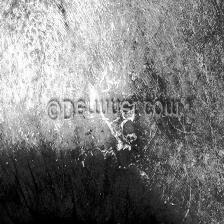Potentially Malignant Skin Tumors: (86, 119, 158, 187)
